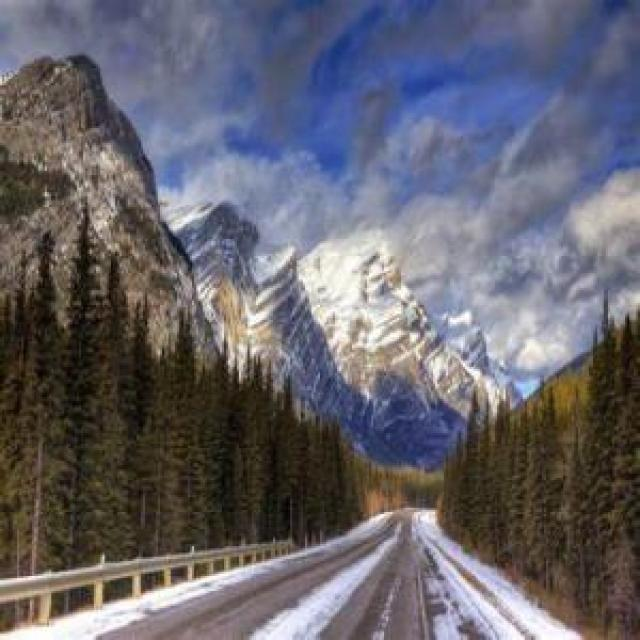ice-road: (97, 515, 490, 637)
